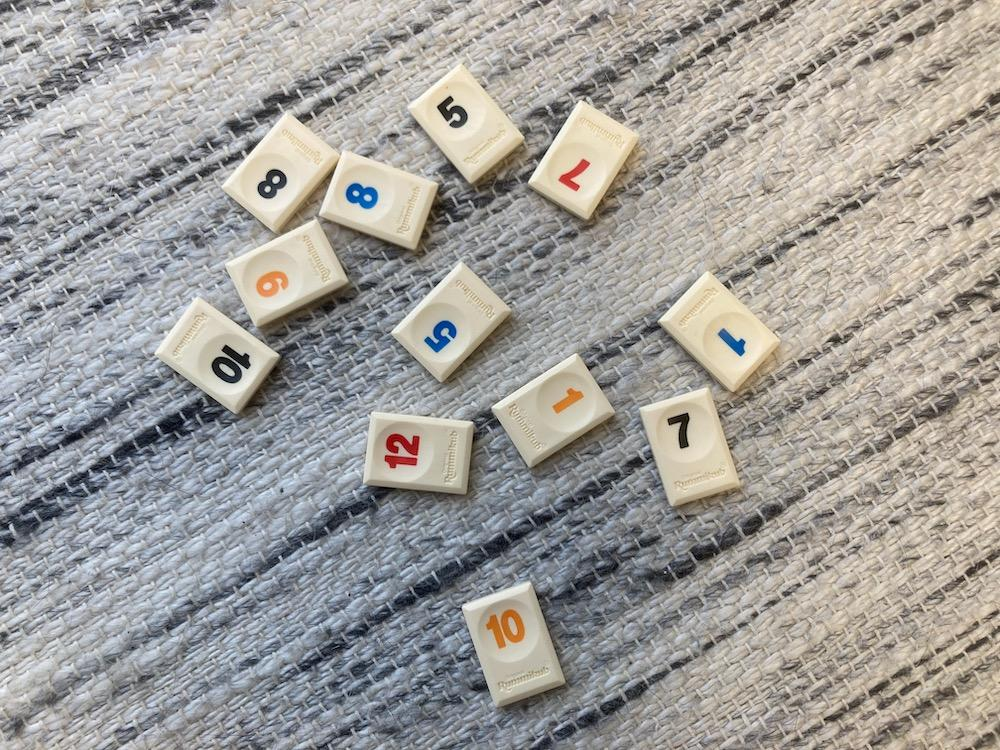black_10: (156, 299, 279, 412)
black_5: (408, 64, 523, 184)
black_7: (641, 389, 740, 506)
black_8: (223, 113, 340, 232)
blue_1: (660, 271, 779, 391)
blue_5: (386, 264, 510, 381)
blue_8: (321, 150, 438, 250)
orange_1: (492, 354, 615, 467)
orange_10: (463, 582, 564, 707)
orange_9: (227, 221, 348, 326)
red_12: (363, 412, 472, 494)
red_7: (529, 102, 639, 219)
